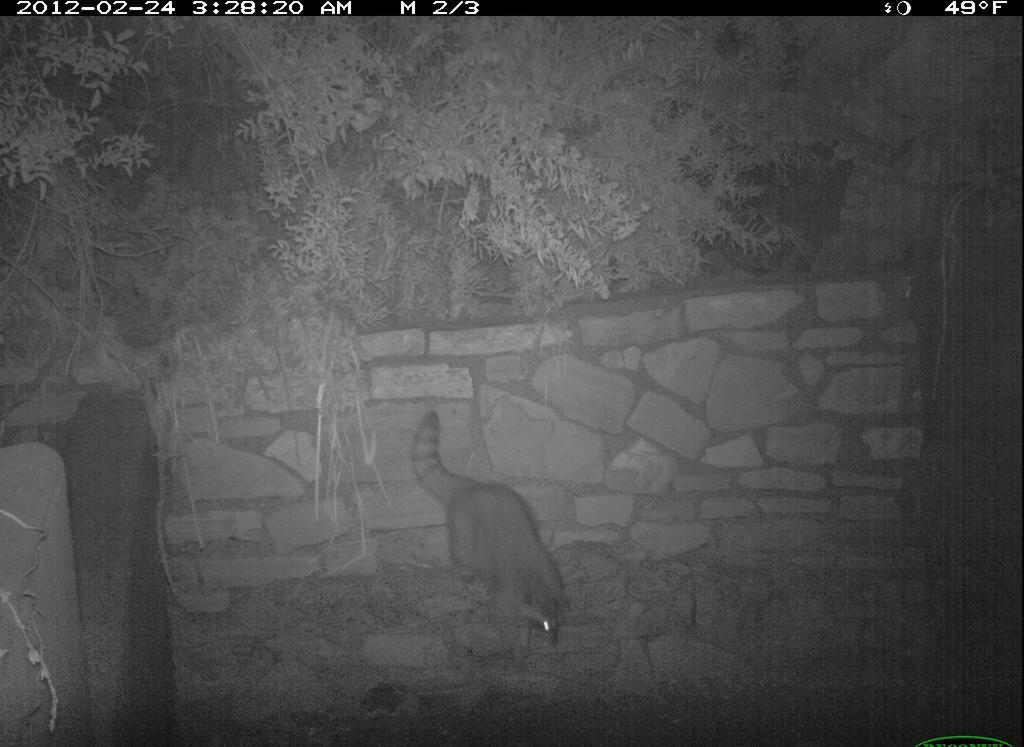raccoon: (408, 405, 574, 662)
